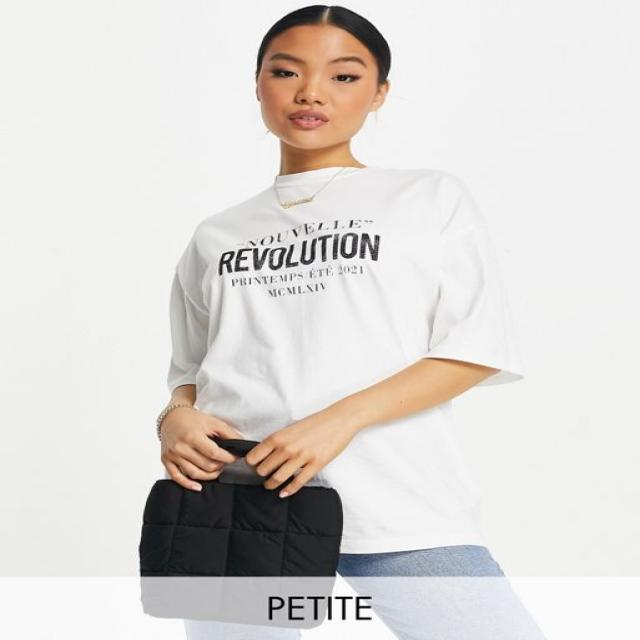tshirt: (161, 162, 523, 554)
